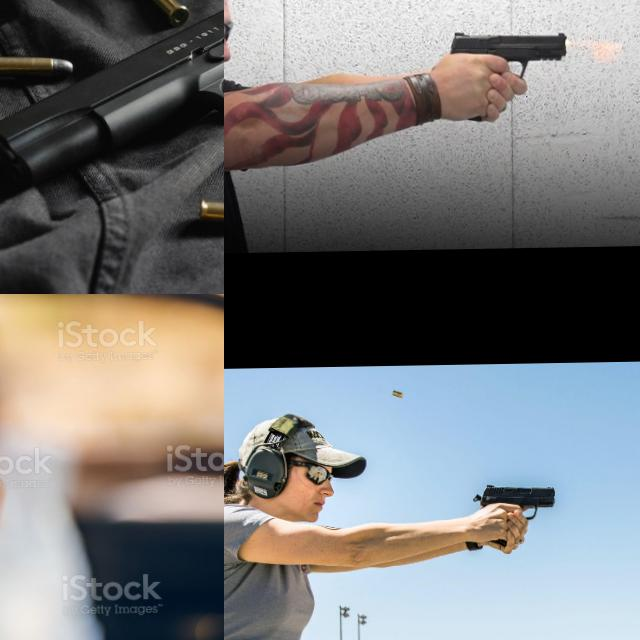handgun: (0, 0, 224, 199), (448, 28, 570, 82), (0, 414, 39, 542), (470, 479, 559, 522)
